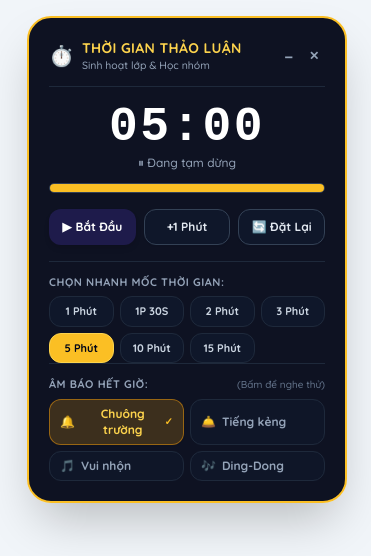
Test: ClassroomTimerWidget Component › cho phép chọn nhạc chuông báo hết giờ
The width and height of the screenshot is (371, 556).
Expected: the text "Âm báo hết giờ:" is shown, [49,376,148,393]
Expected: the text "Chuông trường" is shown, [101,406,145,437]
Click the button titled "Chọn âm chuông: Tiếng kẻng" at (258, 422), box [190,399,325,445]
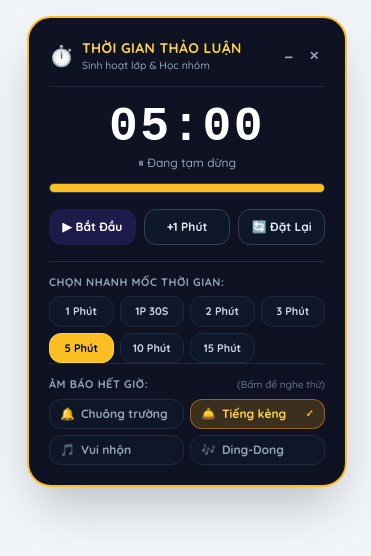
Expected: the button titled "Chọn âm chuông: Tiếng kẻng" shows "✓", [190,399,325,429]
